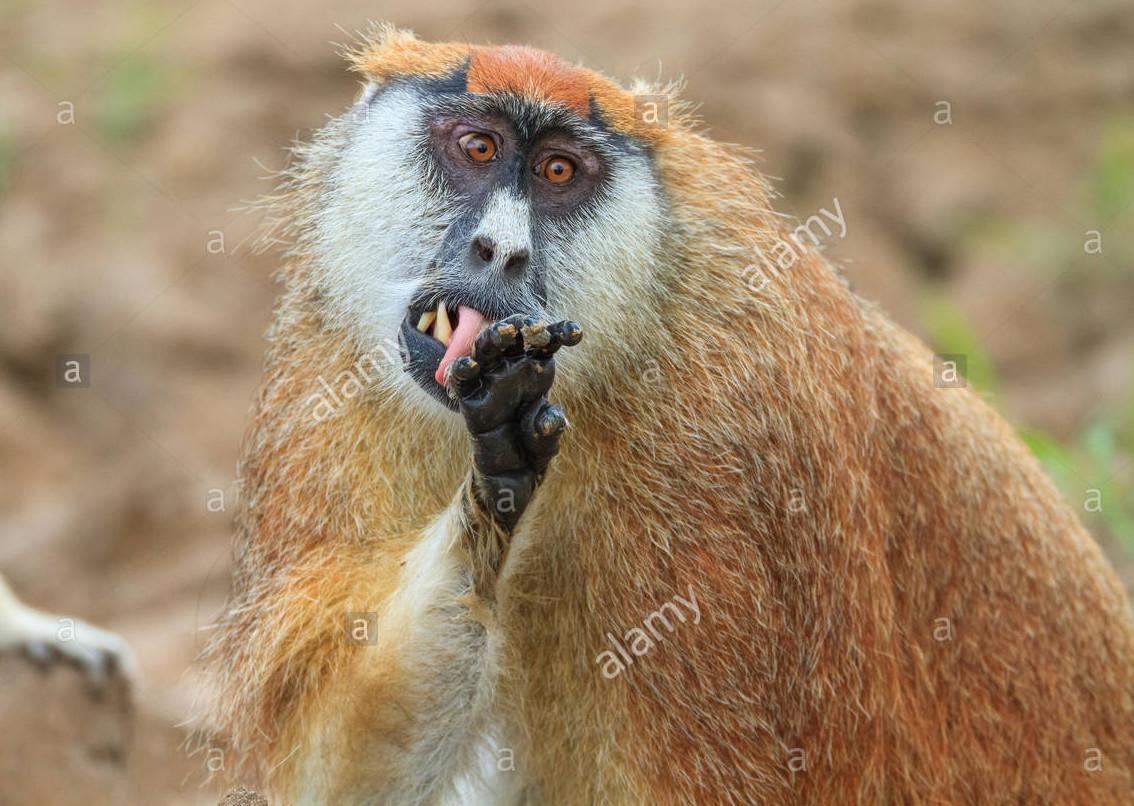monkey: (208, 20, 1134, 806)
